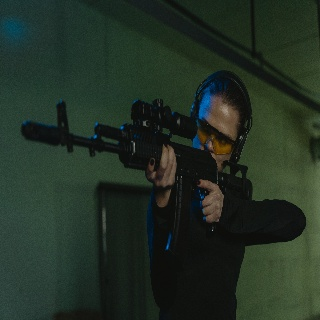rifle: (21, 96, 253, 261)
